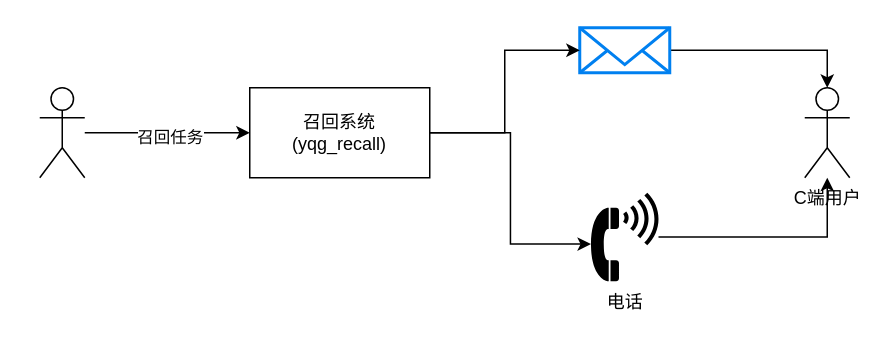
Image size: 887x338. Some labels were removed from this diagram. The centre of each missing label's shape, as x and y in pixels:
短信: point (624, 50)
运营人员: point (61, 132)
